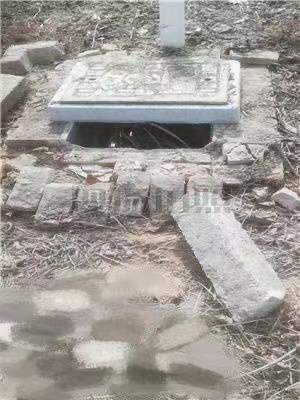wellcover: (5, 42, 289, 213)
